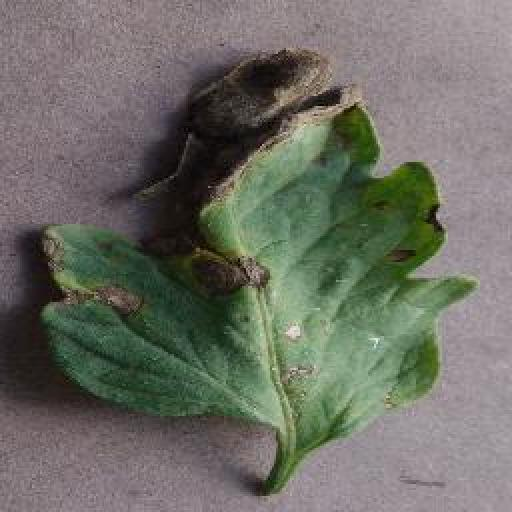disease_tomato: (31, 47, 479, 449)
